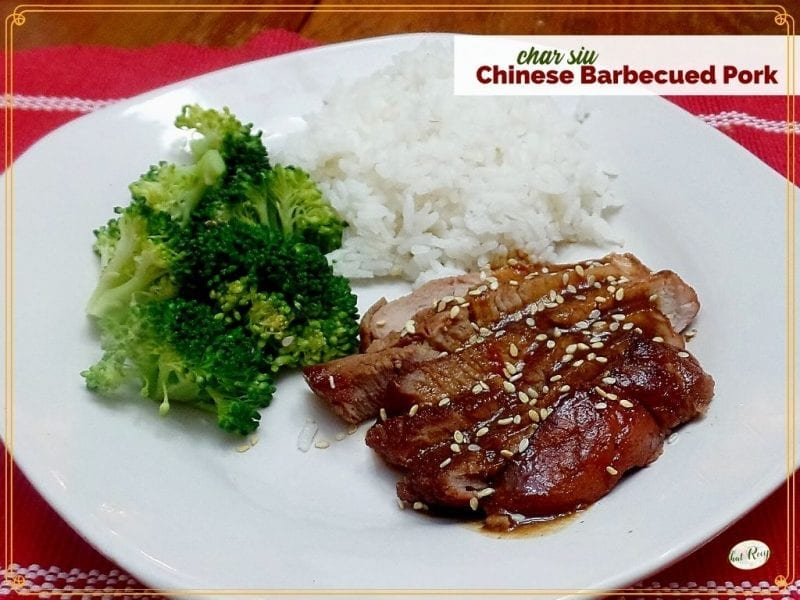char-siu: (301, 253, 714, 531)
